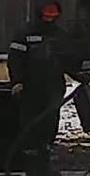gloves: (10, 80, 27, 102)
helmet: (41, 3, 62, 17)
vest: (17, 21, 70, 97)
